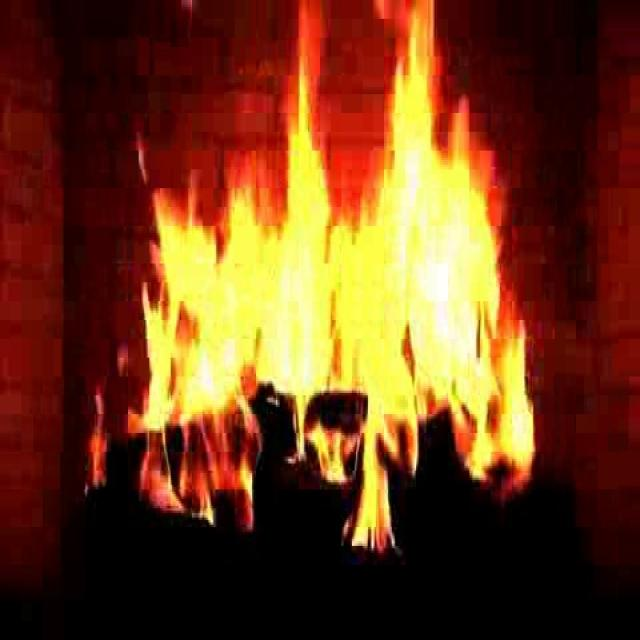fire: (142, 56, 516, 551)
